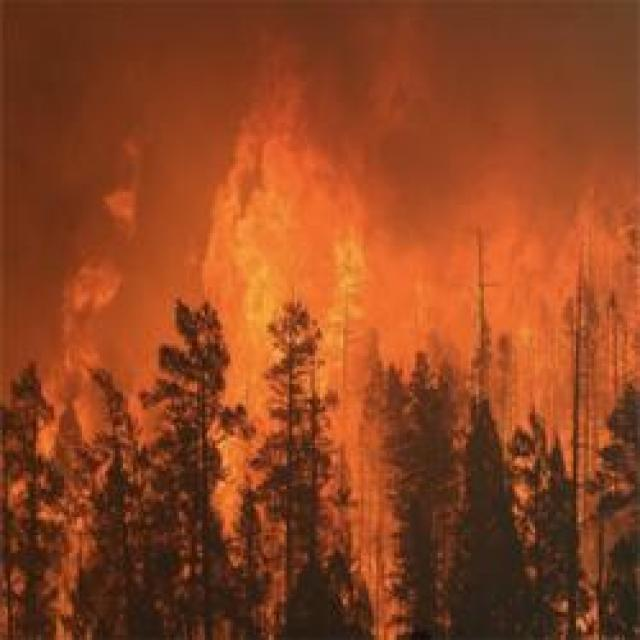Fire: (216, 117, 313, 306)
